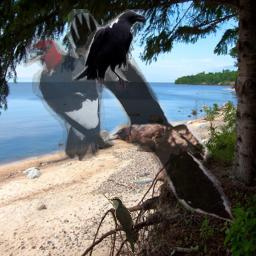Crow: (66, 9, 235, 224), (71, 9, 147, 96)
Cuckoo: (108, 197, 136, 254)
Woodpecker: (23, 34, 112, 161)
